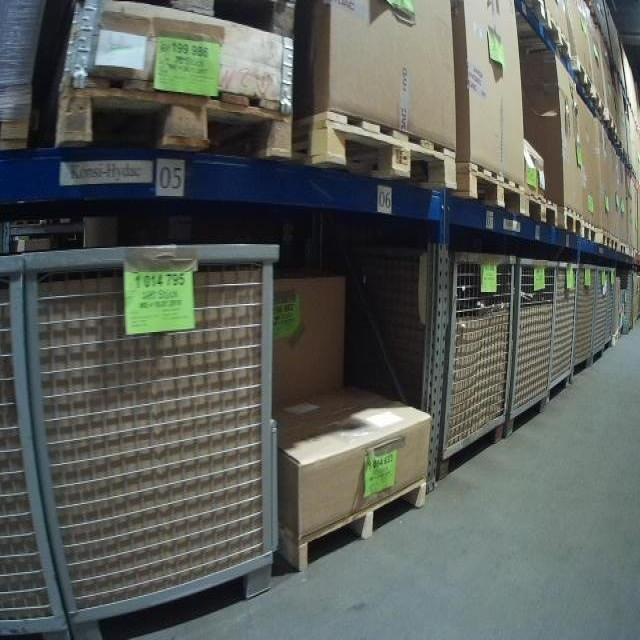pallet: (48, 66, 295, 163), (278, 474, 429, 576), (295, 111, 460, 194), (458, 159, 526, 218), (524, 186, 561, 230), (563, 205, 583, 241), (583, 218, 598, 248), (597, 226, 612, 251)
stillage: (21, 237, 276, 638), (342, 249, 514, 489), (1, 252, 78, 636), (500, 250, 557, 450), (549, 259, 580, 407), (568, 259, 599, 381), (590, 264, 610, 366), (605, 265, 622, 348)
